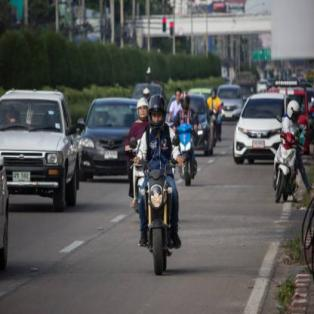Motocicleta: (133, 161, 180, 278), (268, 123, 300, 210), (173, 116, 198, 187)
